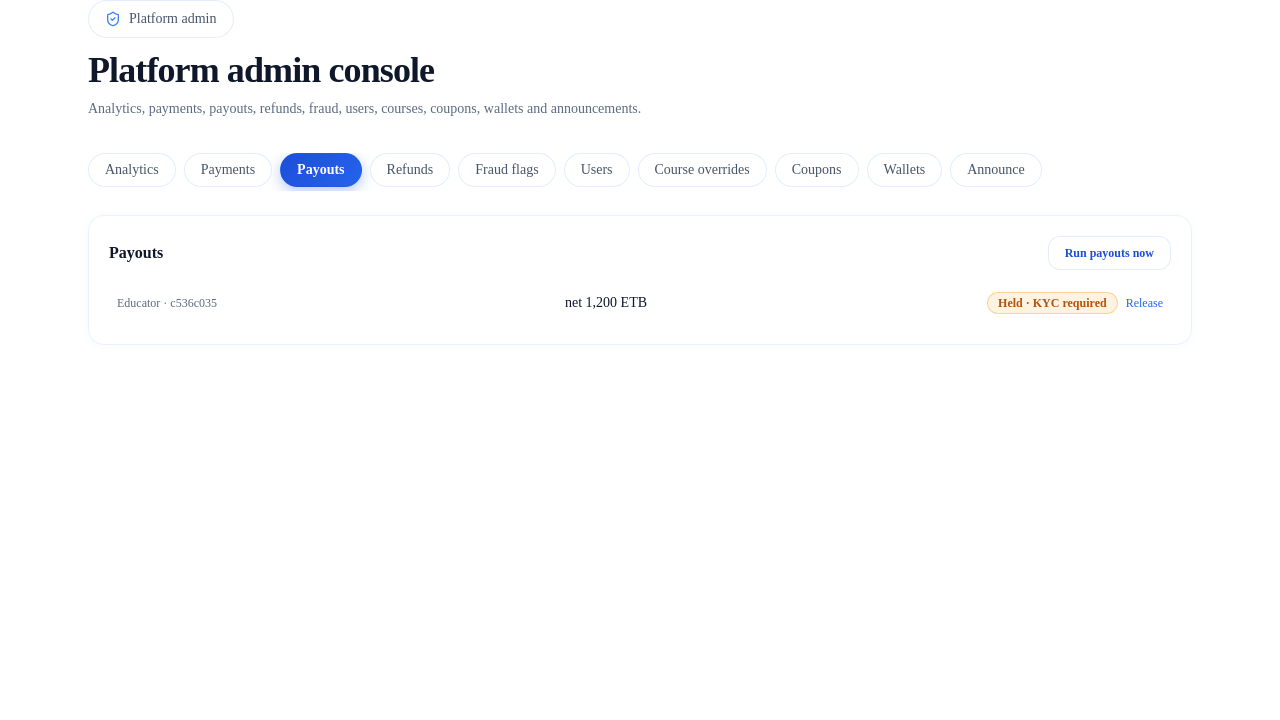
Test: Admin payouts › releases after "Release payout" and says so
Click the button "Release" at (1144, 303), box [1126,295,1163,311]
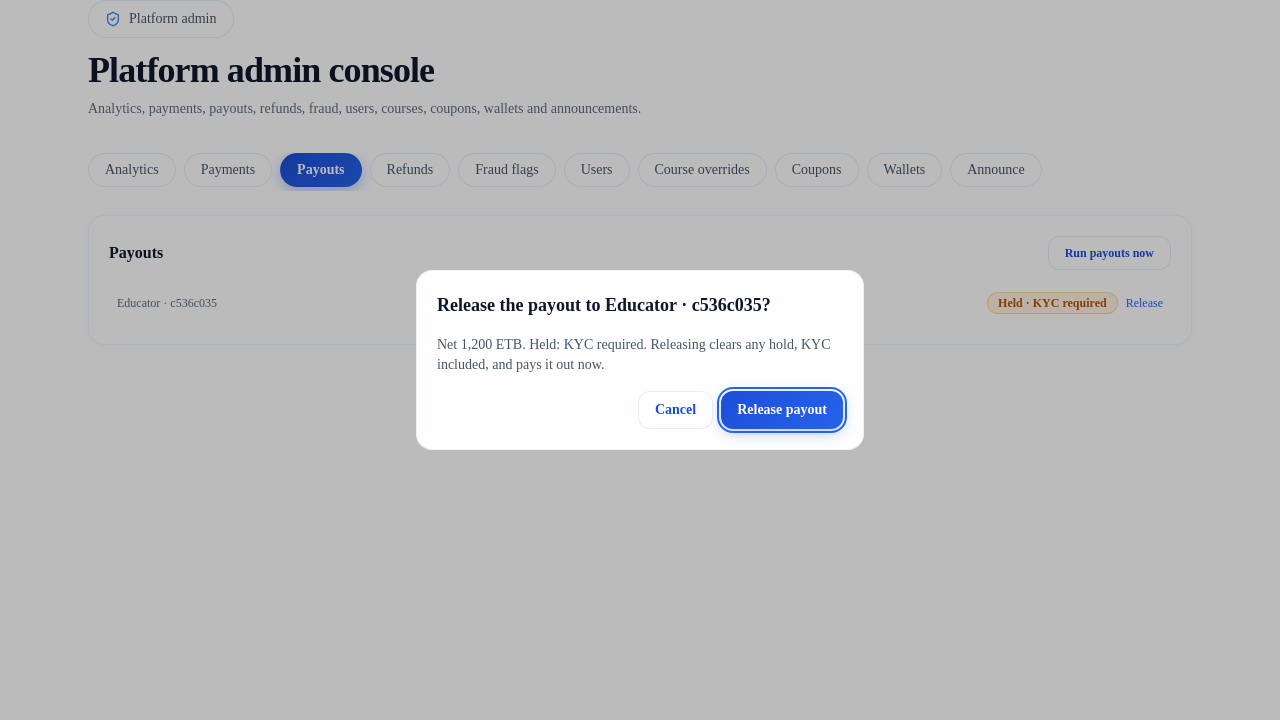
Click the button "Release payout" at (782, 410), box [721,391,843,429]
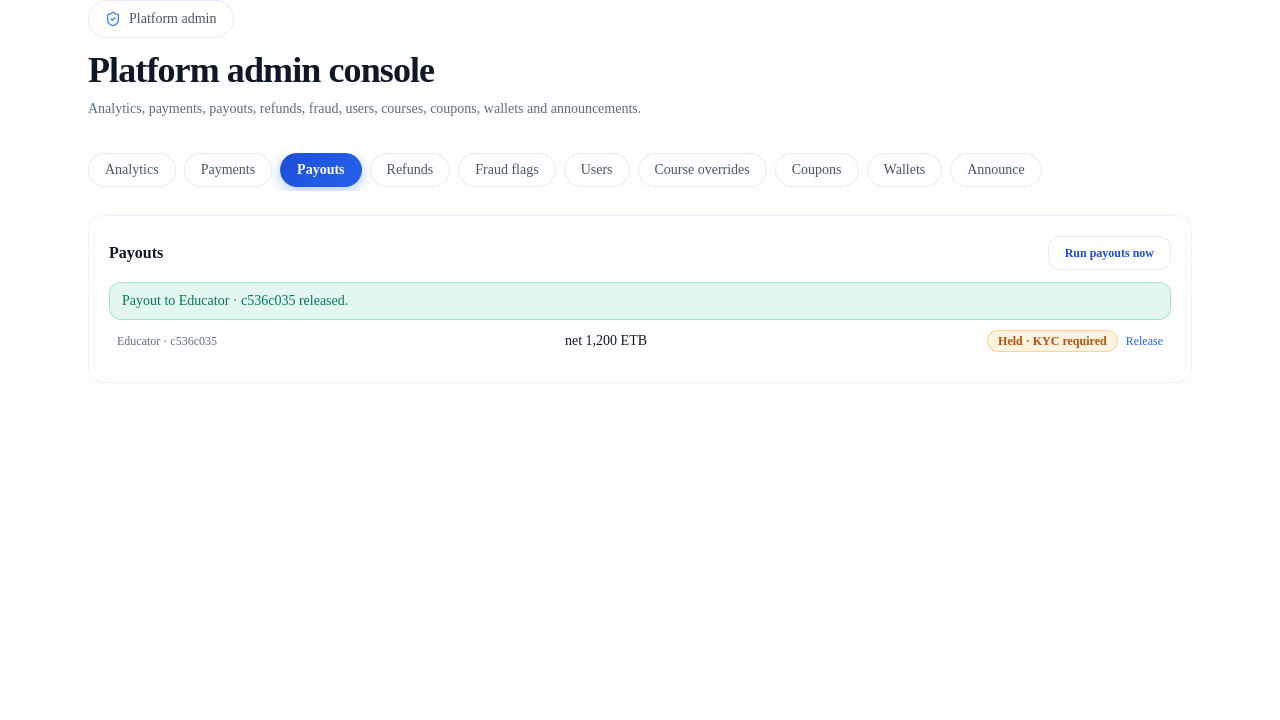
expect the text "Payout to Educator · c536c035 released." is shown: met, box [109,282,1171,320]
